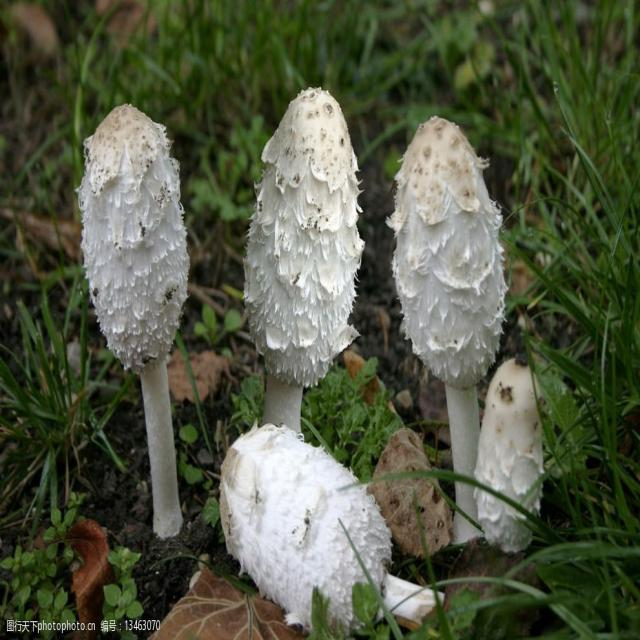Coprinus comatus: (391, 115, 505, 534), (82, 103, 188, 536), (220, 425, 444, 628), (241, 89, 360, 430), (475, 358, 543, 549)
